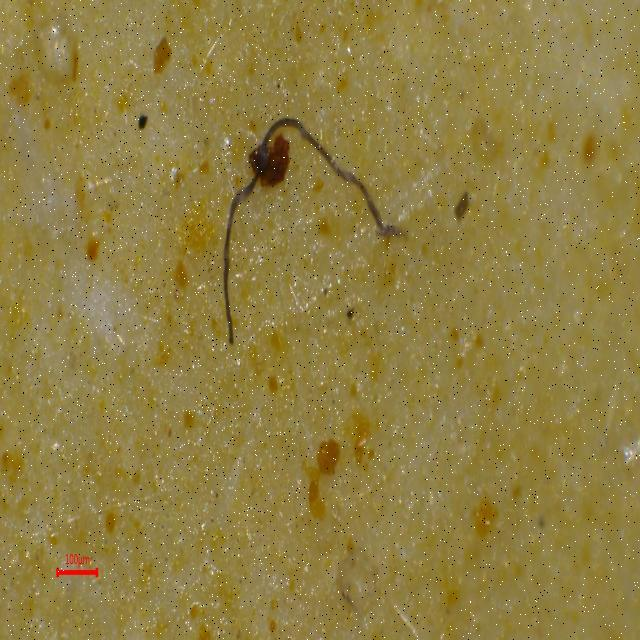fibers: (143, 94, 405, 343)
